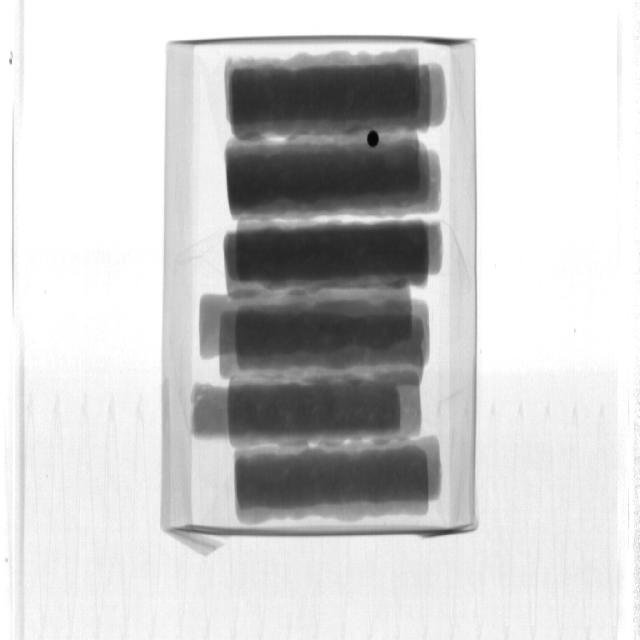ym: (367, 131, 379, 150)
